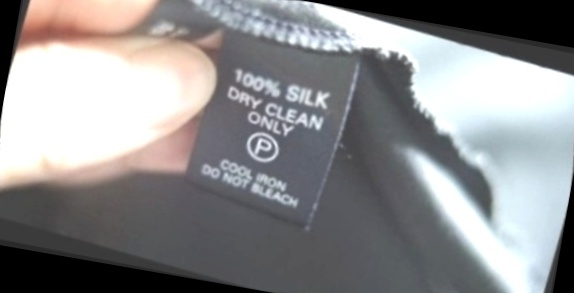dry_clean_any_solvent_except_trichloroethylene: (233, 117, 295, 177)
